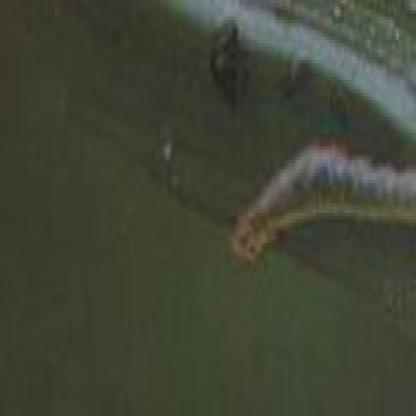leaf-folder: (218, 136, 416, 280)
